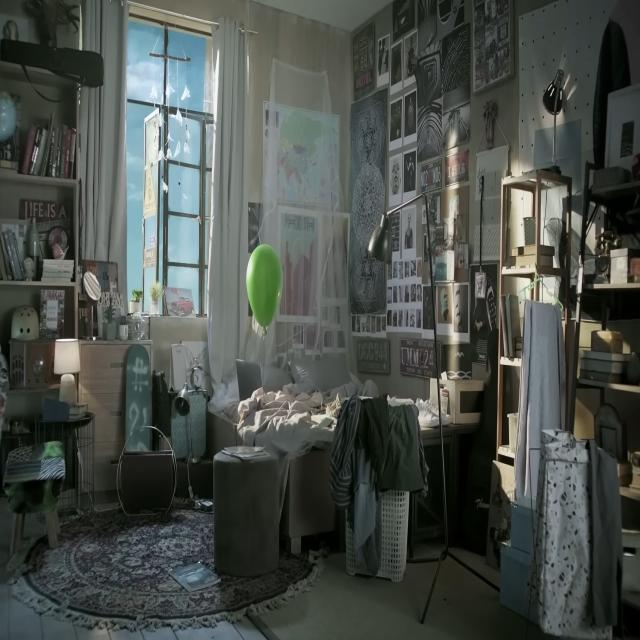balloon: (245, 246, 281, 327)
